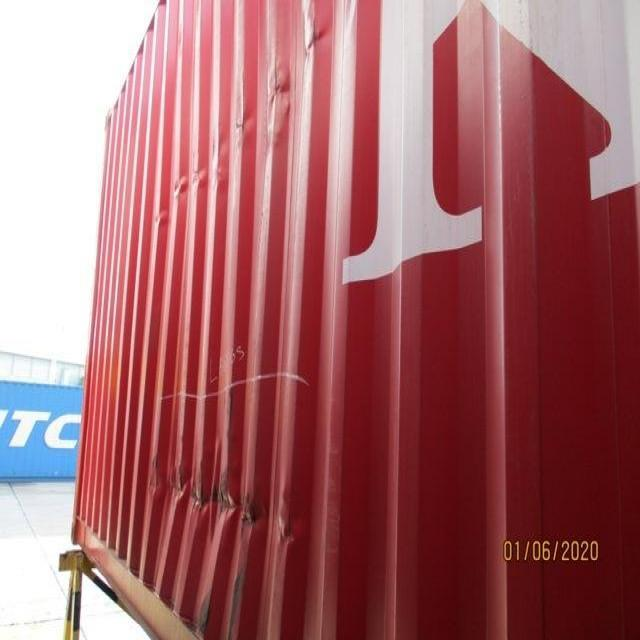Dent: (127, 436, 330, 573)
Minor-Dent: (150, 20, 337, 232)
